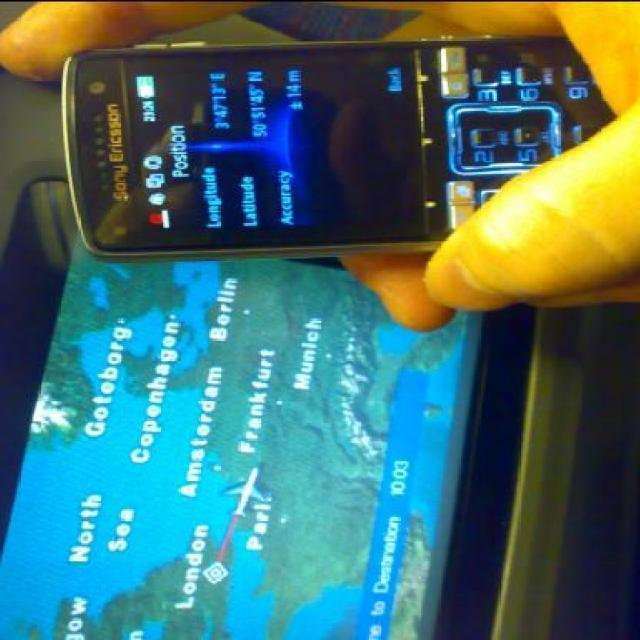phone: (0, 177, 568, 640), (58, 27, 620, 264)
